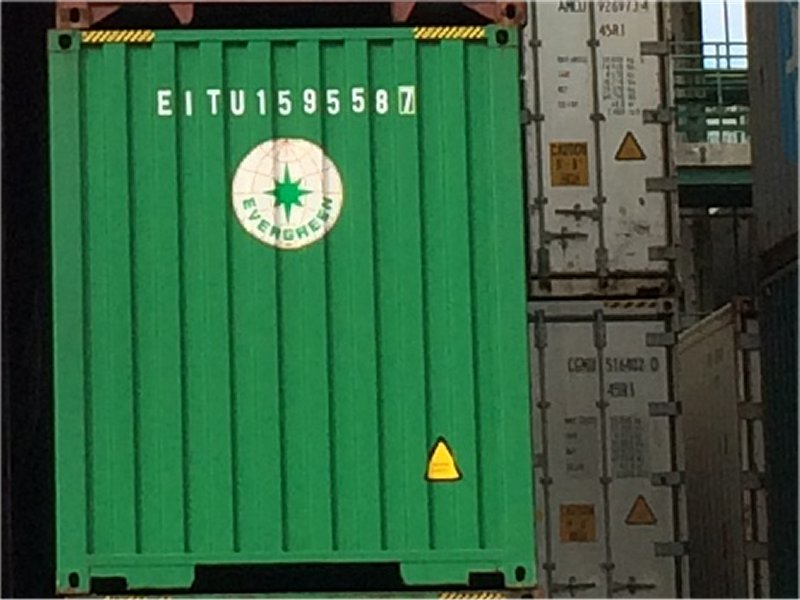container_no_door: (53, 28, 525, 600)
